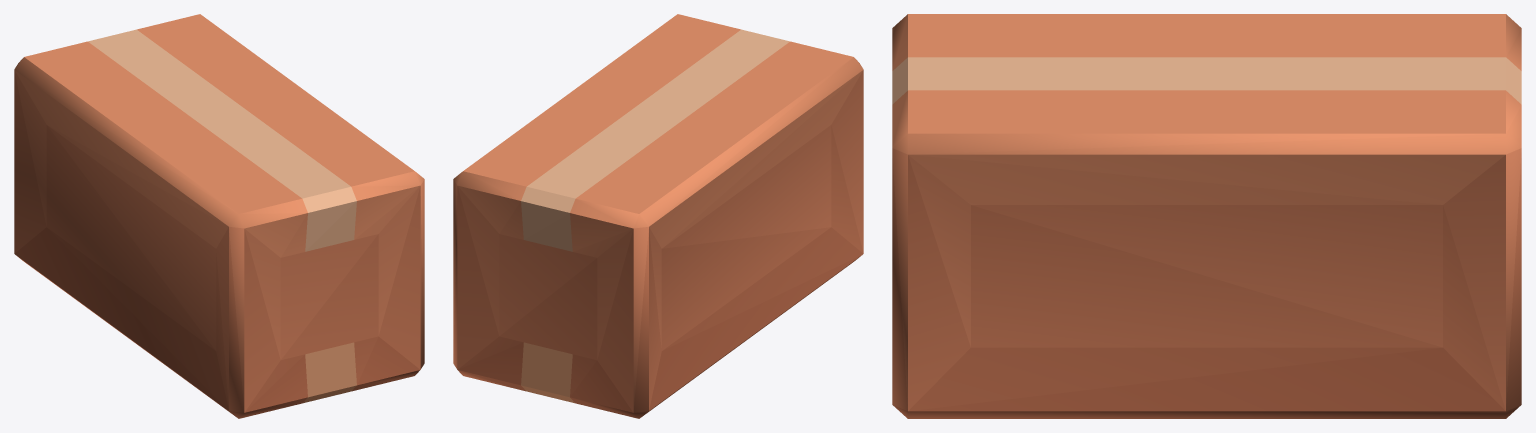
The model's file is box-large.glb.
3 views of the same model, side by side, from view 1: azimuth 30°, elevation 25°; view 2: azimuth 150°, elevation 25°; view 3: azimuth 270°, elevation 25° (orthographic). The views are drawn at different scales.
Visible parts, largest first — view 1: cea9167, ccb7753, cd37d58, cefba94, cbc6a49, cd7815b, ce48c63, cc06e4c, cdf8860, ce78f65, cca7652, cd18f67 (+4 smaller); view 2: cea9167, ccb7753, cd37d58, cefba94, cbc6a49, cd7815b, ce48c63, cc06e4c, cdf8860, cca7652, ce78f65, cd18f67 (+4 smaller); view 3: cea9167, ccb7753, cd37d58, cefba94, cbc6a49, ce48c63, cc06e4c, cdf8860, cca7652, cd7815b, ce78f65, cb86746 (+1 smaller).
Boxes of the visible parts, bbox=[...] form: cea9167: bbox=[14, 14, 420, 213]; ccb7753: bbox=[14, 71, 420, 412]; cd37d58: bbox=[47, 125, 378, 408]; cefba94: bbox=[88, 29, 350, 198]; cbc6a49: bbox=[14, 227, 419, 412]; cd7815b: bbox=[14, 70, 424, 409]; ce48c63: bbox=[14, 70, 419, 257]; cc06e4c: bbox=[48, 228, 378, 411]; cdf8860: bbox=[48, 125, 419, 257]; ce78f65: bbox=[15, 58, 424, 228]; cca7652: bbox=[216, 196, 424, 412]; cd18f67: bbox=[305, 342, 356, 397]; cea9167: bbox=[463, 14, 853, 228]; ccb7753: bbox=[457, 186, 830, 412]; cd37d58: bbox=[499, 70, 863, 335]; cefba94: bbox=[527, 29, 789, 198]; cbc6a49: bbox=[458, 254, 862, 412]; cd7815b: bbox=[453, 179, 661, 409]; ce48c63: bbox=[458, 71, 861, 251]; cc06e4c: bbox=[458, 227, 863, 396]; cdf8860: bbox=[499, 70, 863, 257]; cca7652: bbox=[453, 125, 863, 412]; ce78f65: bbox=[453, 57, 863, 228]; cd18f67: bbox=[521, 342, 572, 397]; cea9167: bbox=[892, 14, 1521, 154]; ccb7753: bbox=[908, 155, 1441, 410]; cd37d58: bbox=[971, 155, 1505, 410]; cefba94: bbox=[908, 57, 1505, 90]; cbc6a49: bbox=[910, 347, 1505, 411]; ce48c63: bbox=[910, 154, 1505, 204]; cc06e4c: bbox=[908, 347, 1441, 411]; cdf8860: bbox=[908, 154, 1440, 204]; cca7652: bbox=[892, 152, 1521, 411]; cd7815b: bbox=[892, 148, 1521, 408]; ce78f65: bbox=[892, 14, 1521, 154]; cb86746: bbox=[893, 405, 1520, 418].
Size of what is drawn, in the model's own units: 0.25 by 0.25 by 0.5.
